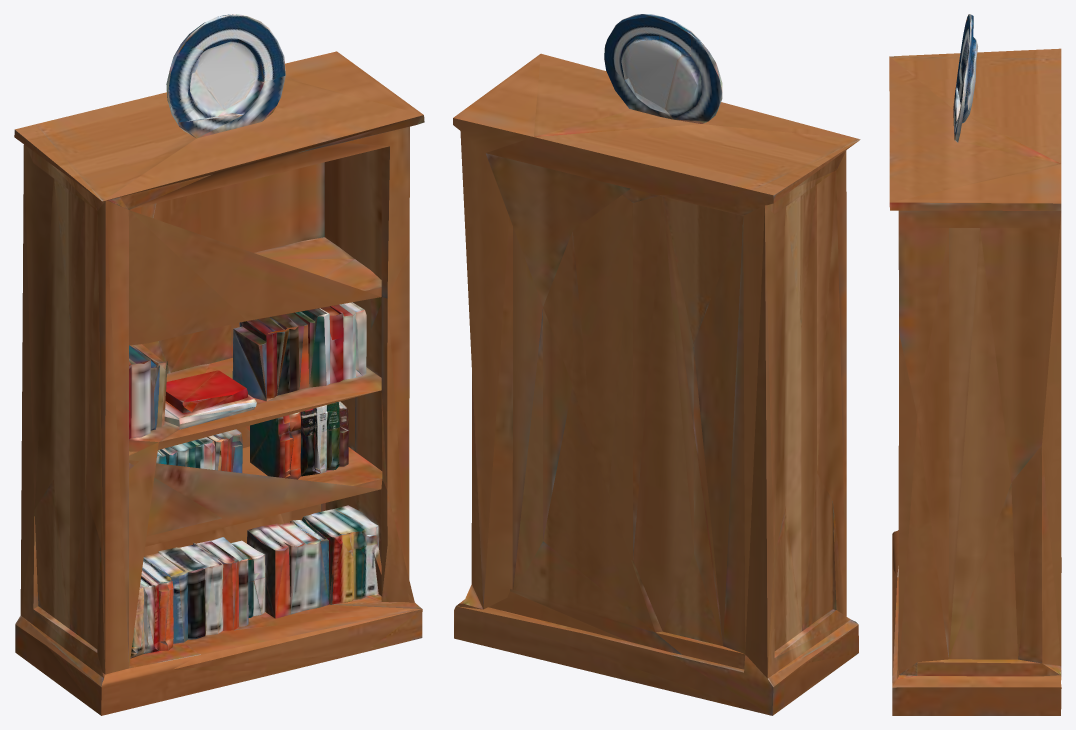
The model's file is bookshelf.glb.
3 views of the same model, side by side, from view 1: azimuth 30°, elevation 25°; view 2: azimuth 150°, elevation 25°; view 3: azimuth 270°, elevation 25° (orthographic). The views are drawn at different scales.
Bounding box in the file's own units: 1.02 × 1.9 × 0.479.
Materials: 1 (1 with a texture image).
